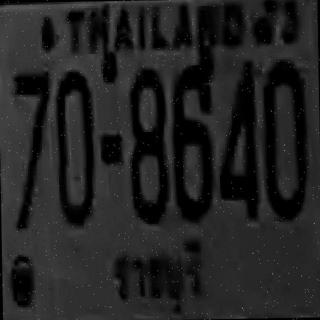N04: (216, 58, 257, 216)
N07: (12, 70, 50, 158)
N08: (128, 66, 166, 222)
P52: (103, 238, 211, 317)
